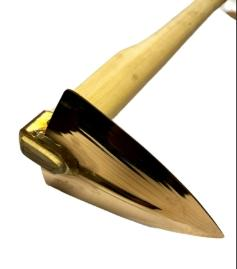HOUE: (7, 0, 237, 262)
